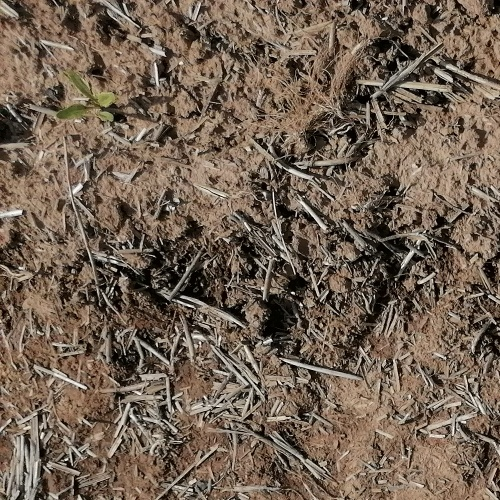beet: (58, 71, 117, 125)
